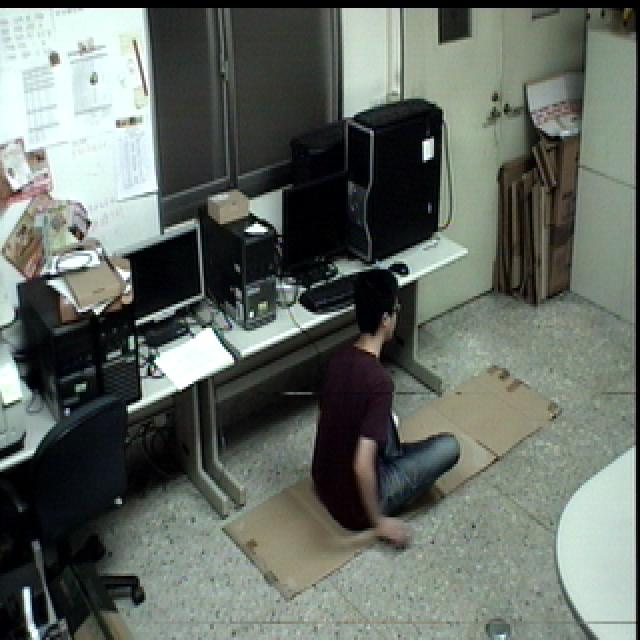sit: (310, 266, 465, 555)
